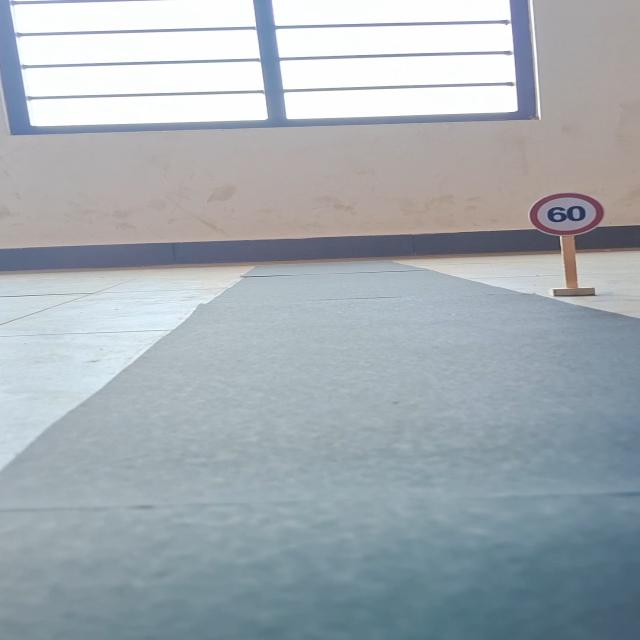Speed60: (526, 190, 604, 237)
